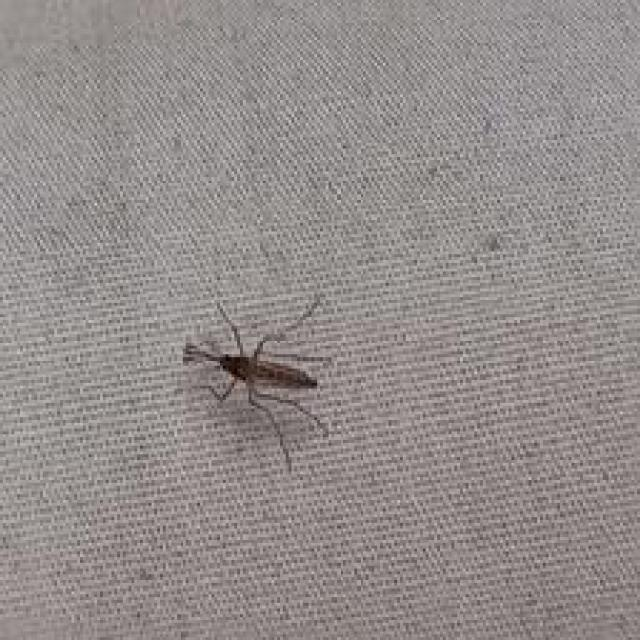Culex: (180, 294, 331, 474)
